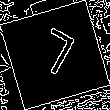L_SW: (29, 26, 81, 84)
